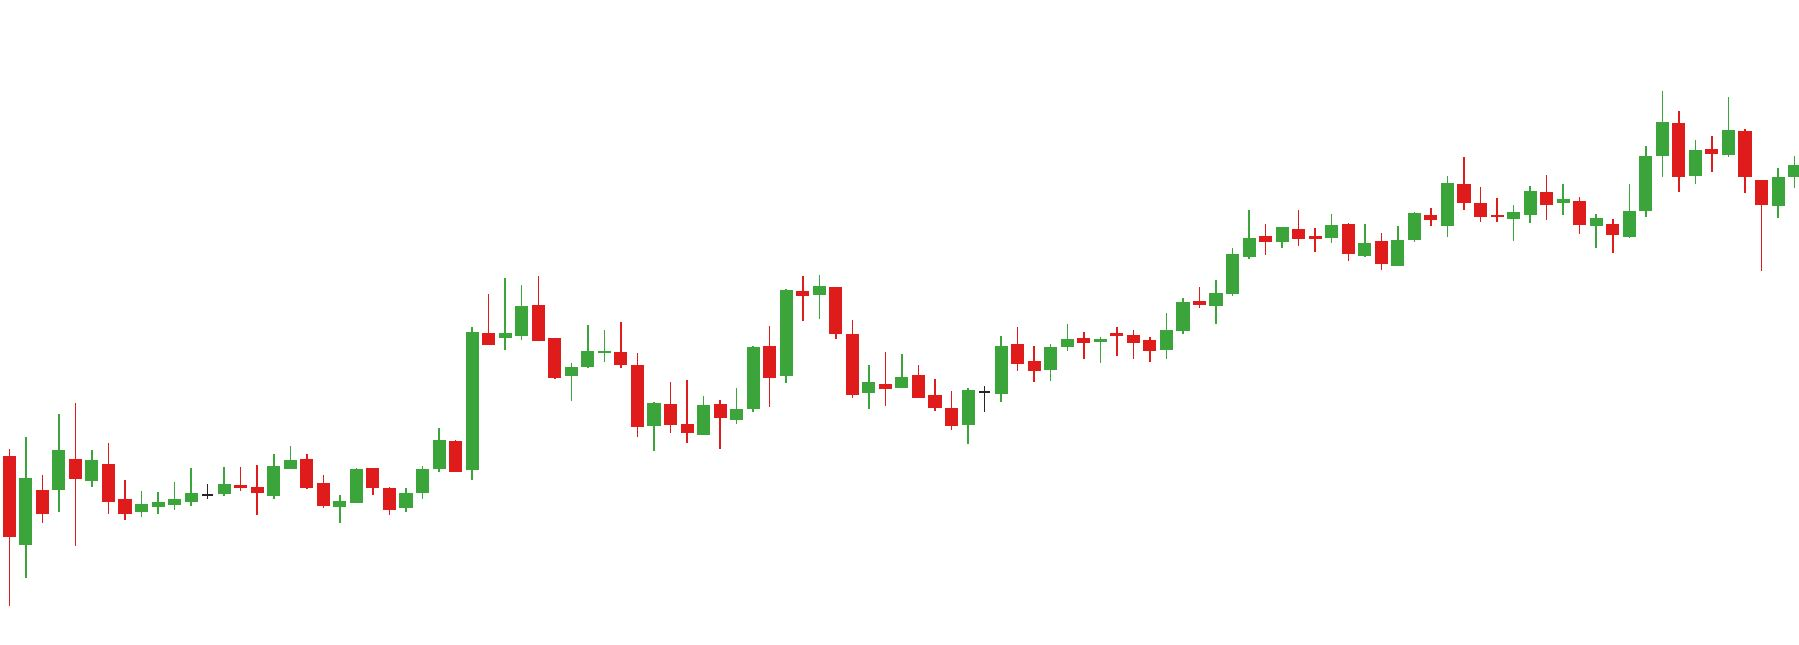sell: (612, 277, 846, 371)
